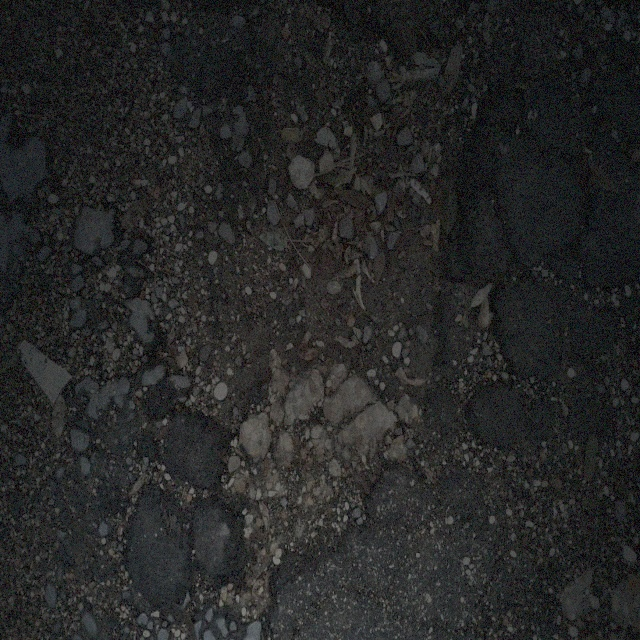pothole: (173, 34, 480, 488)
